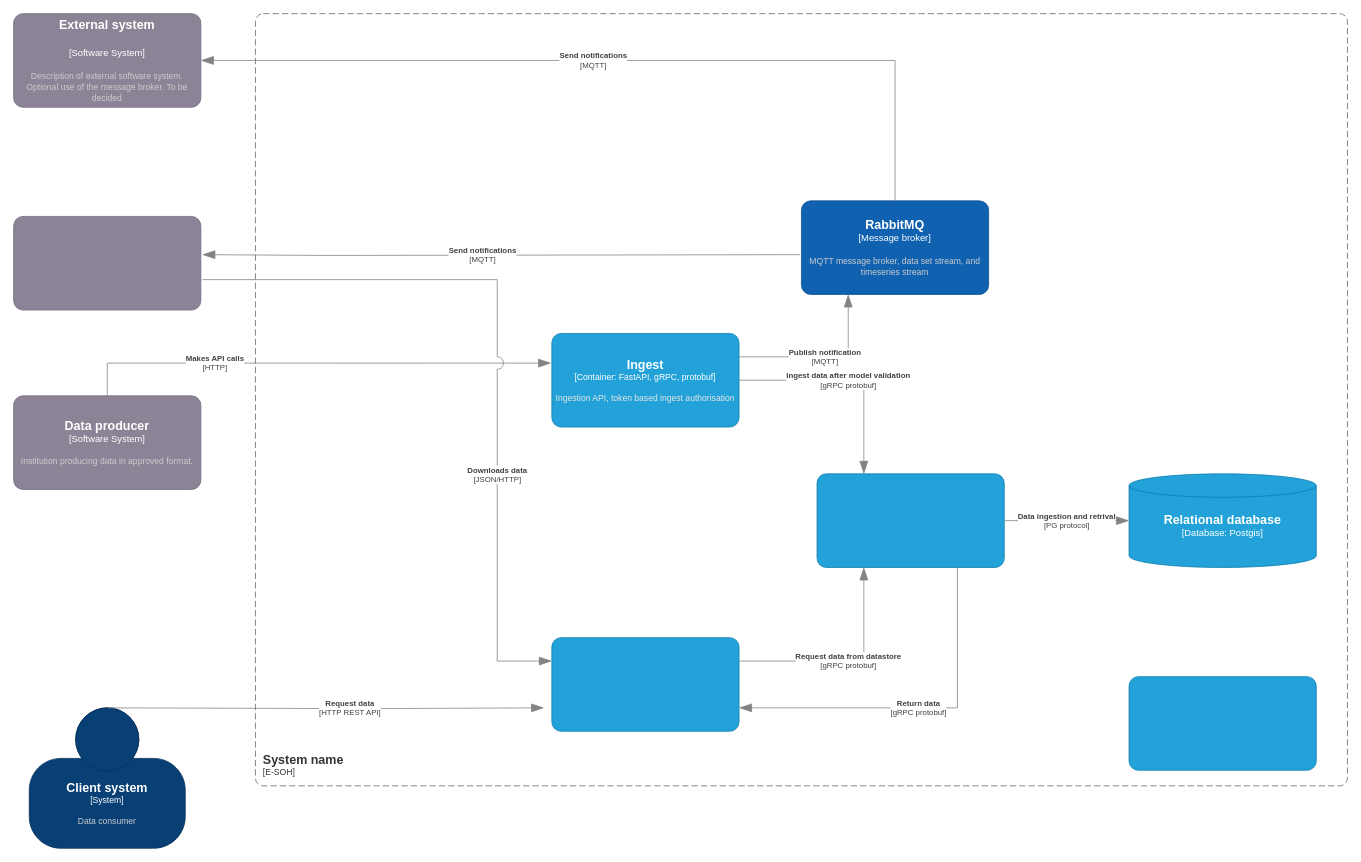
Some shapes in this 1361 by 862 pixel diagram are drawn without their labels. Each missing label, with the box of its shape:
Datastore [Container: Go gRPC server] Interface between database and APIs: (816, 473, 1004, 567)
EDR [Container: FastAPI, gRPC, protobuf] Data consumer API: (551, 637, 739, 731)
Monitoring and reporting [Container: Eg. graphana]: (1128, 676, 1316, 770)
WIS 2.0 [Software System] Global metadata catalogue: (13, 216, 201, 310)
